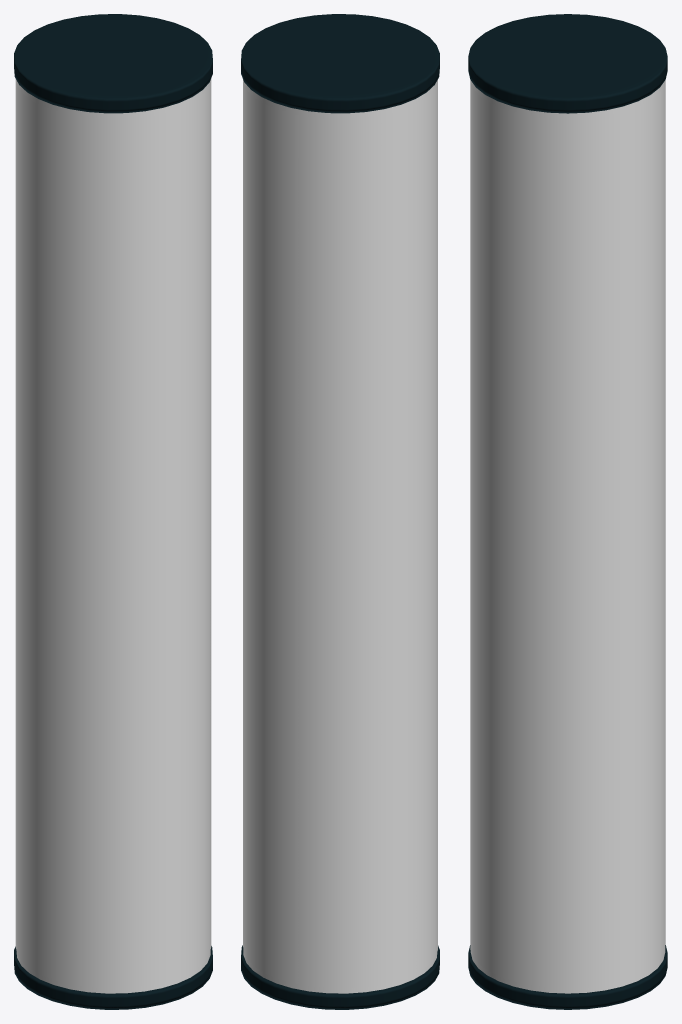
3 renders of one model, left to right at view 1: azimuth 30°, elevation 25°; view 2: azimuth 150°, elevation 25°; view 3: azimuth 270°, elevation 25°, orthographic.
Visible parts, largest first — view 1: label, top cap, bottom cap, plastic; view 2: label, top cap, bottom cap, plastic; view 3: label, top cap, bottom cap, plastic.
Boxes of the visible parts, left/top/right/bottom form: label: left=15, top=79, right=211, bottom=988; top cap: left=14, top=14, right=212, bottom=113; bottom cap: left=14, top=946, right=212, bottom=1009; plastic: left=16, top=80, right=210, bottom=993; label: left=243, top=79, right=437, bottom=988; top cap: left=241, top=14, right=439, bottom=113; bottom cap: left=241, top=945, right=439, bottom=1009; plastic: left=243, top=80, right=437, bottom=993; label: left=470, top=80, right=665, bottom=988; top cap: left=468, top=14, right=667, bottom=113; bottom cap: left=468, top=945, right=667, bottom=1009; plastic: left=470, top=80, right=665, bottom=993.
Size of the model in its own units: 0.2445 by 1.24 by 0.2445.
